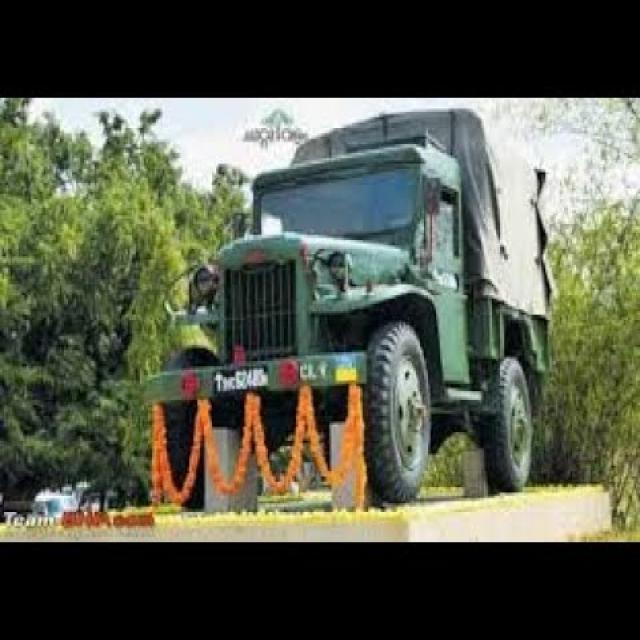truck: (149, 108, 551, 504)
